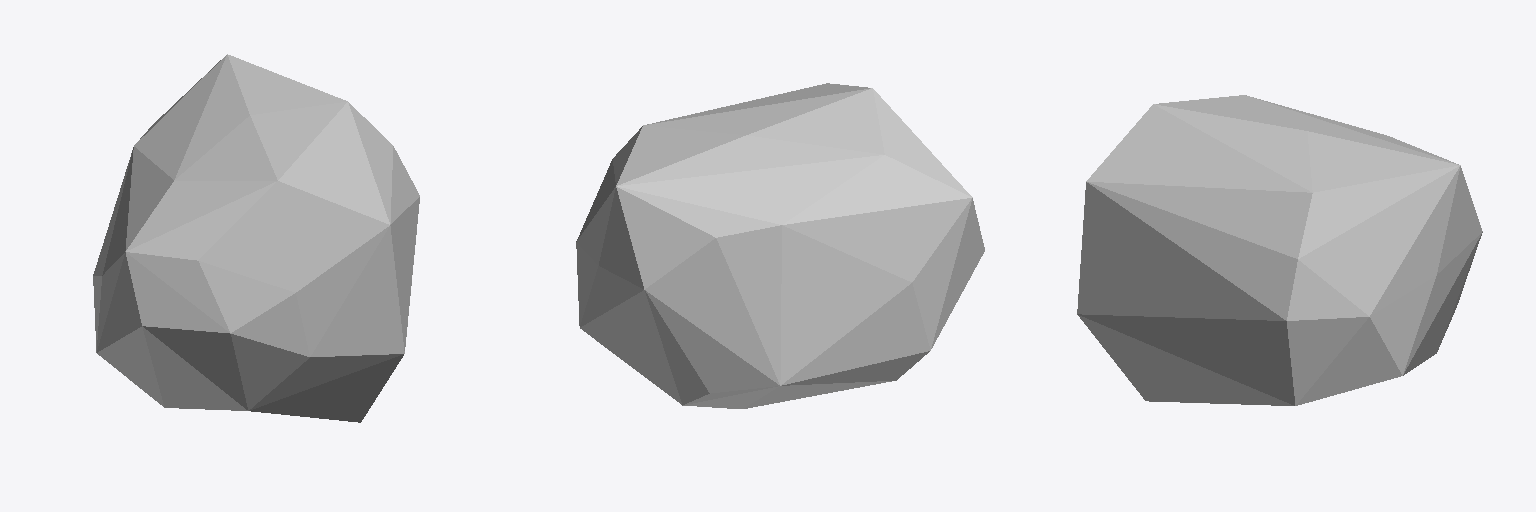
Rendered from rock2 collision.obj.
3 renders of one model, left to right at view 1: azimuth 30°, elevation 25°; view 2: azimuth 150°, elevation 25°; view 3: azimuth 270°, elevation 25°, orthographic.
Parts seen in each view (by area): view 1: Icosphere.001; view 2: Icosphere.001; view 3: Icosphere.001.
Part boxes in pixels (bbox=[...]): Icosphere.001: bbox=[93, 54, 419, 422]; Icosphere.001: bbox=[576, 83, 984, 408]; Icosphere.001: bbox=[1077, 95, 1482, 405].
Bounding box in the file's own units: 4.19 × 3.14 × 4.39.